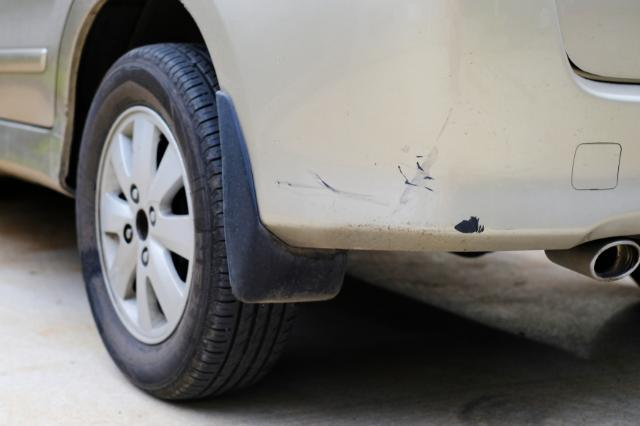Bumper: (278, 120, 640, 258)
